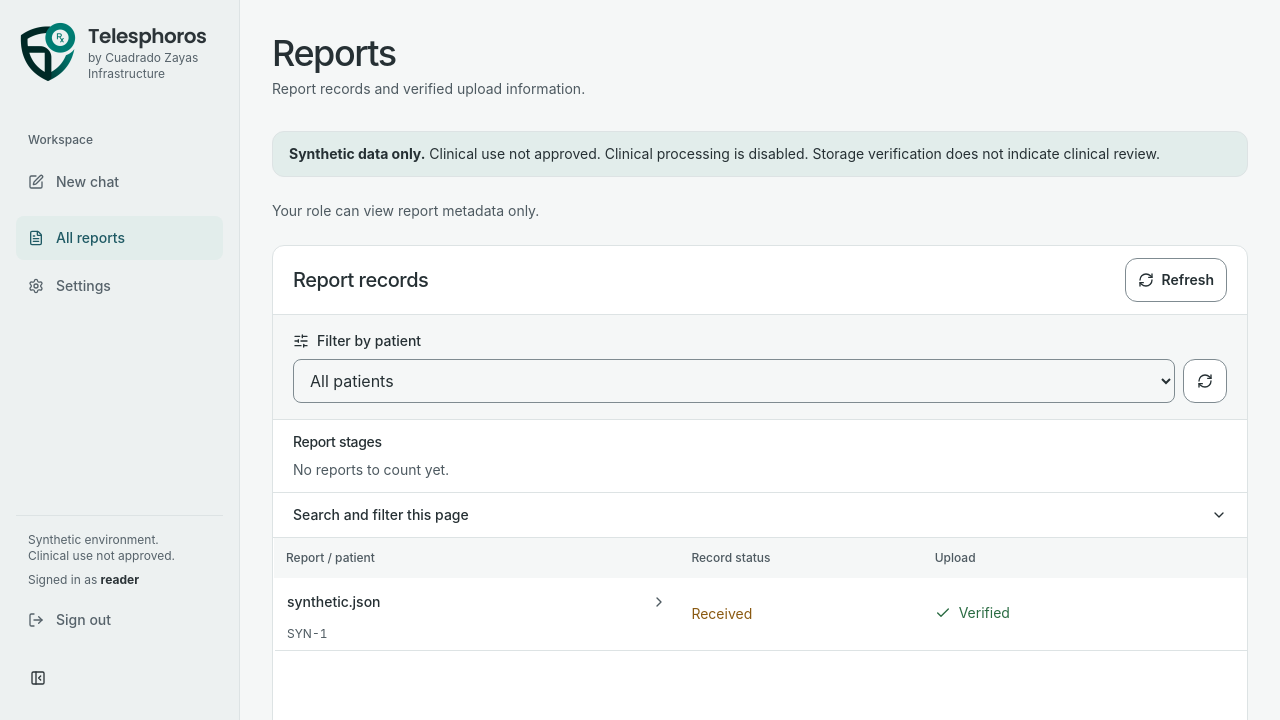
it: dashboard presentation › shows the patient on each row only while the list is not filtered to one patient
This screenshot has width=1280, height=720.
expect the button with aria-label "Open synthetic.json" is shown: met, box [287,578,667,626]
expect the text "SYN-1" is shown: met, box [287,626,328,641]
Select "SYN-2" in the dropdown labelled "Filter by patient" at coordinates (734, 381), box [293,359,1175,403]
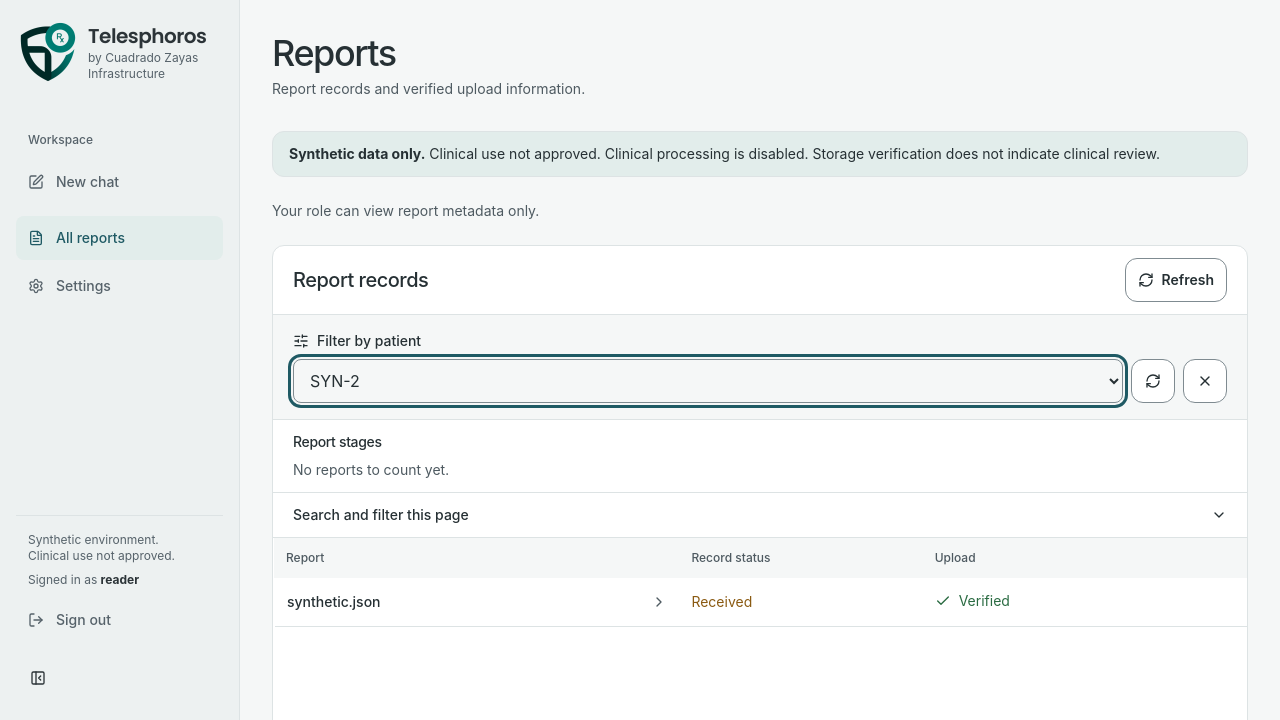
expect the button with aria-label "Open synthetic.json" is shown: met, box [287,578,667,626]
expect the column heading "Report" is shown: met, box [274,538,679,578]
Click the button named "Clear patient filter" at coordinates (1205, 381), box [1183,359,1227,403]
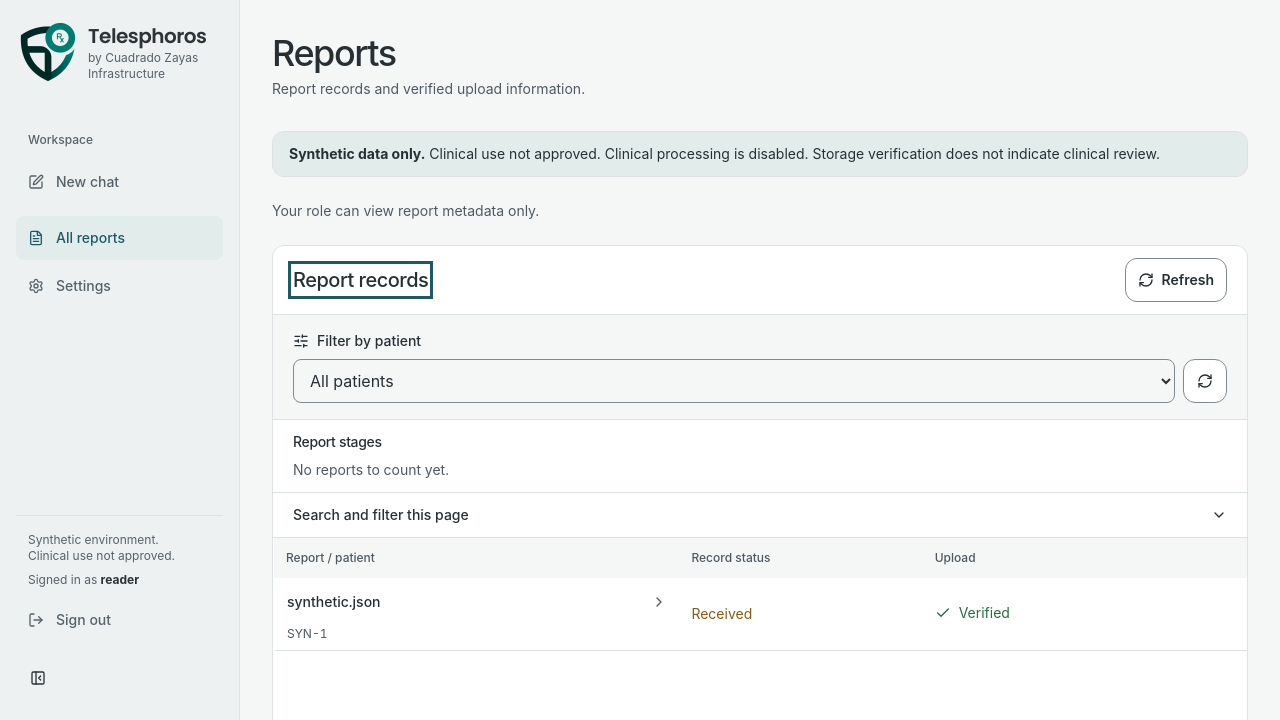
expect the text "SYN-1" is shown: met, box [287,626,328,641]
